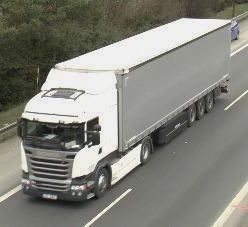truck: (19, 22, 229, 202)
